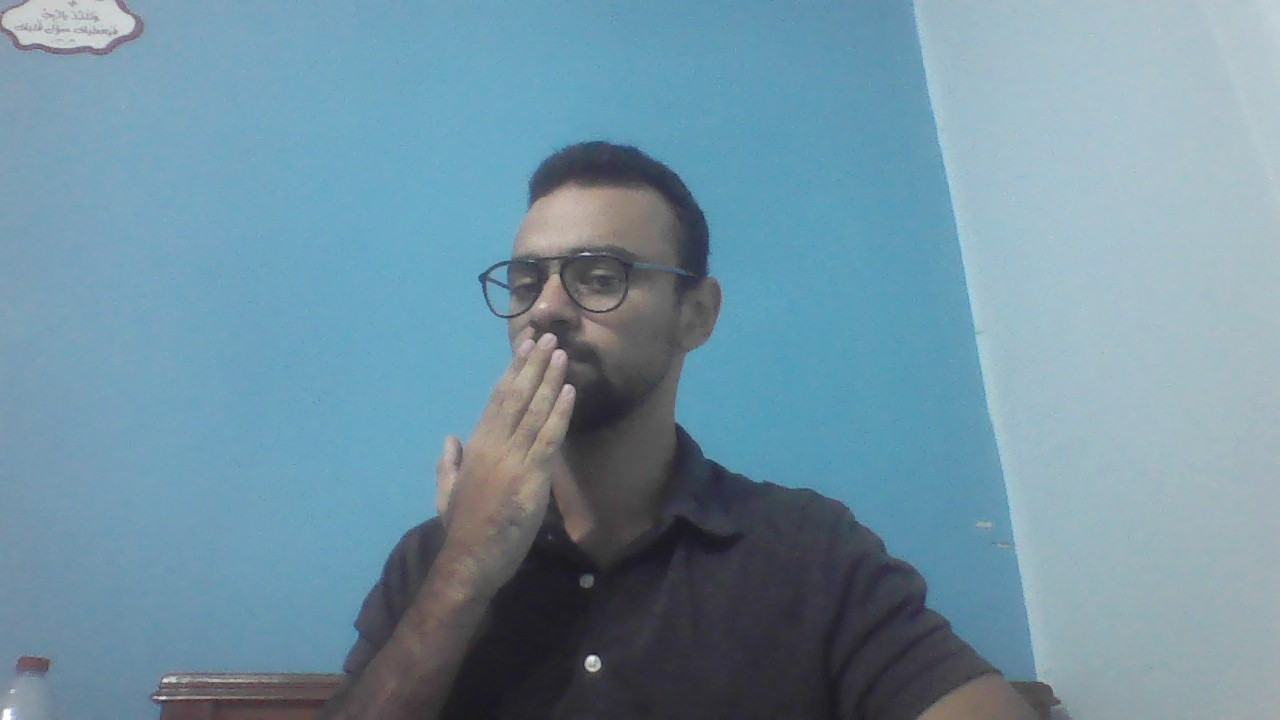thankyou: (433, 332, 577, 550)
